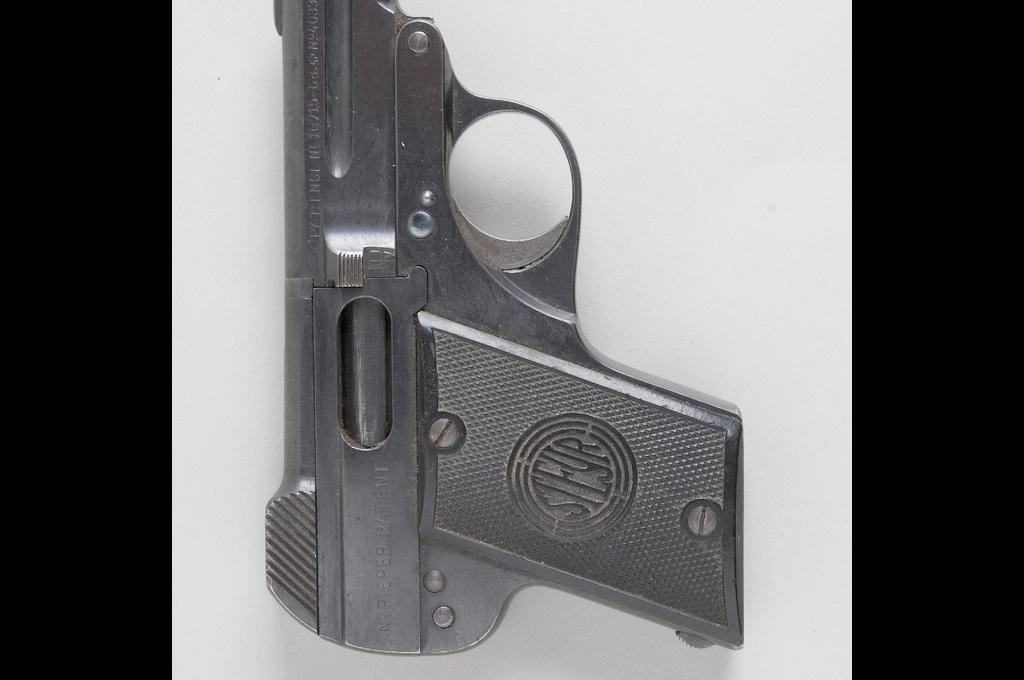gun: (253, 0, 750, 662)
